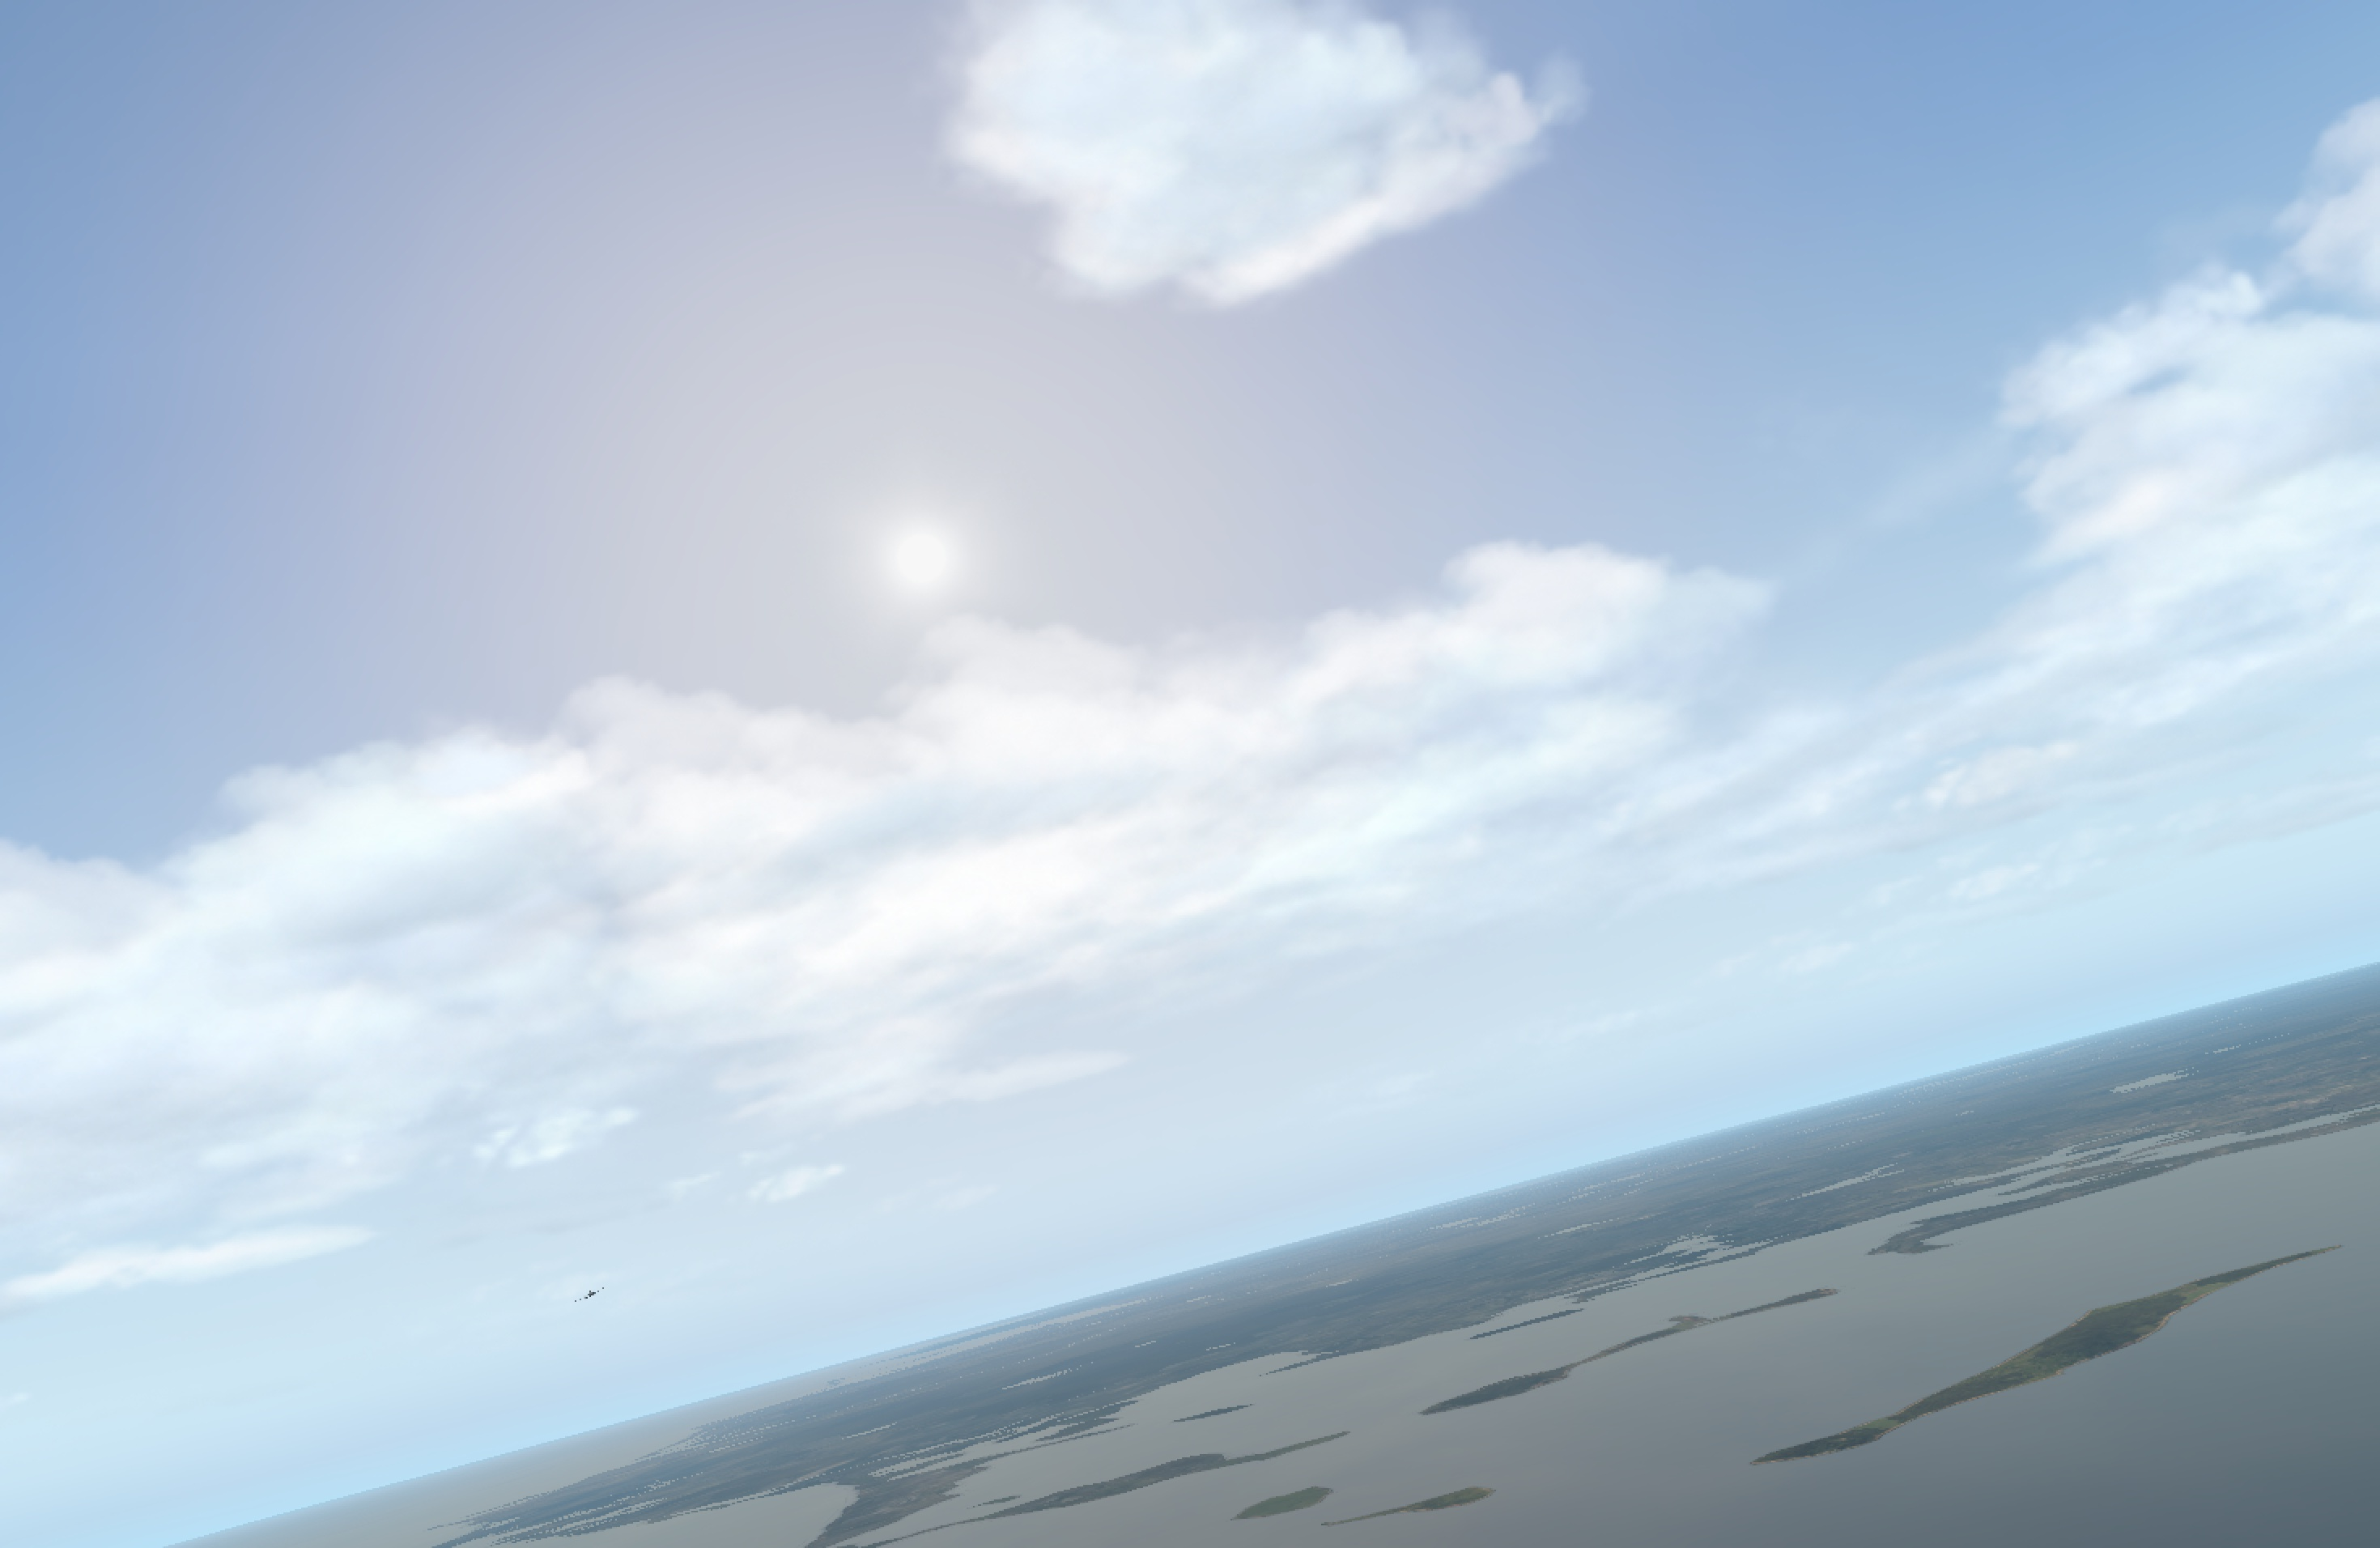aircraft: (574, 1289, 605, 1302)
